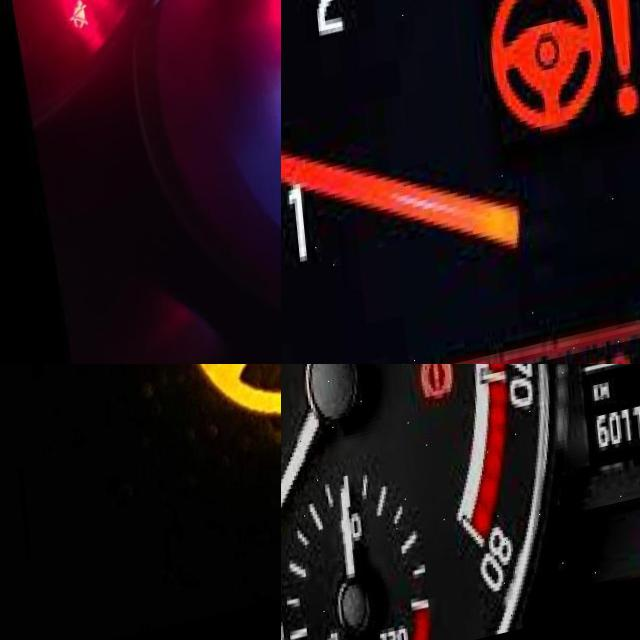Electronic Power Steering Warning: (479, 0, 635, 159)
Seat Belt: (58, 0, 90, 37)
